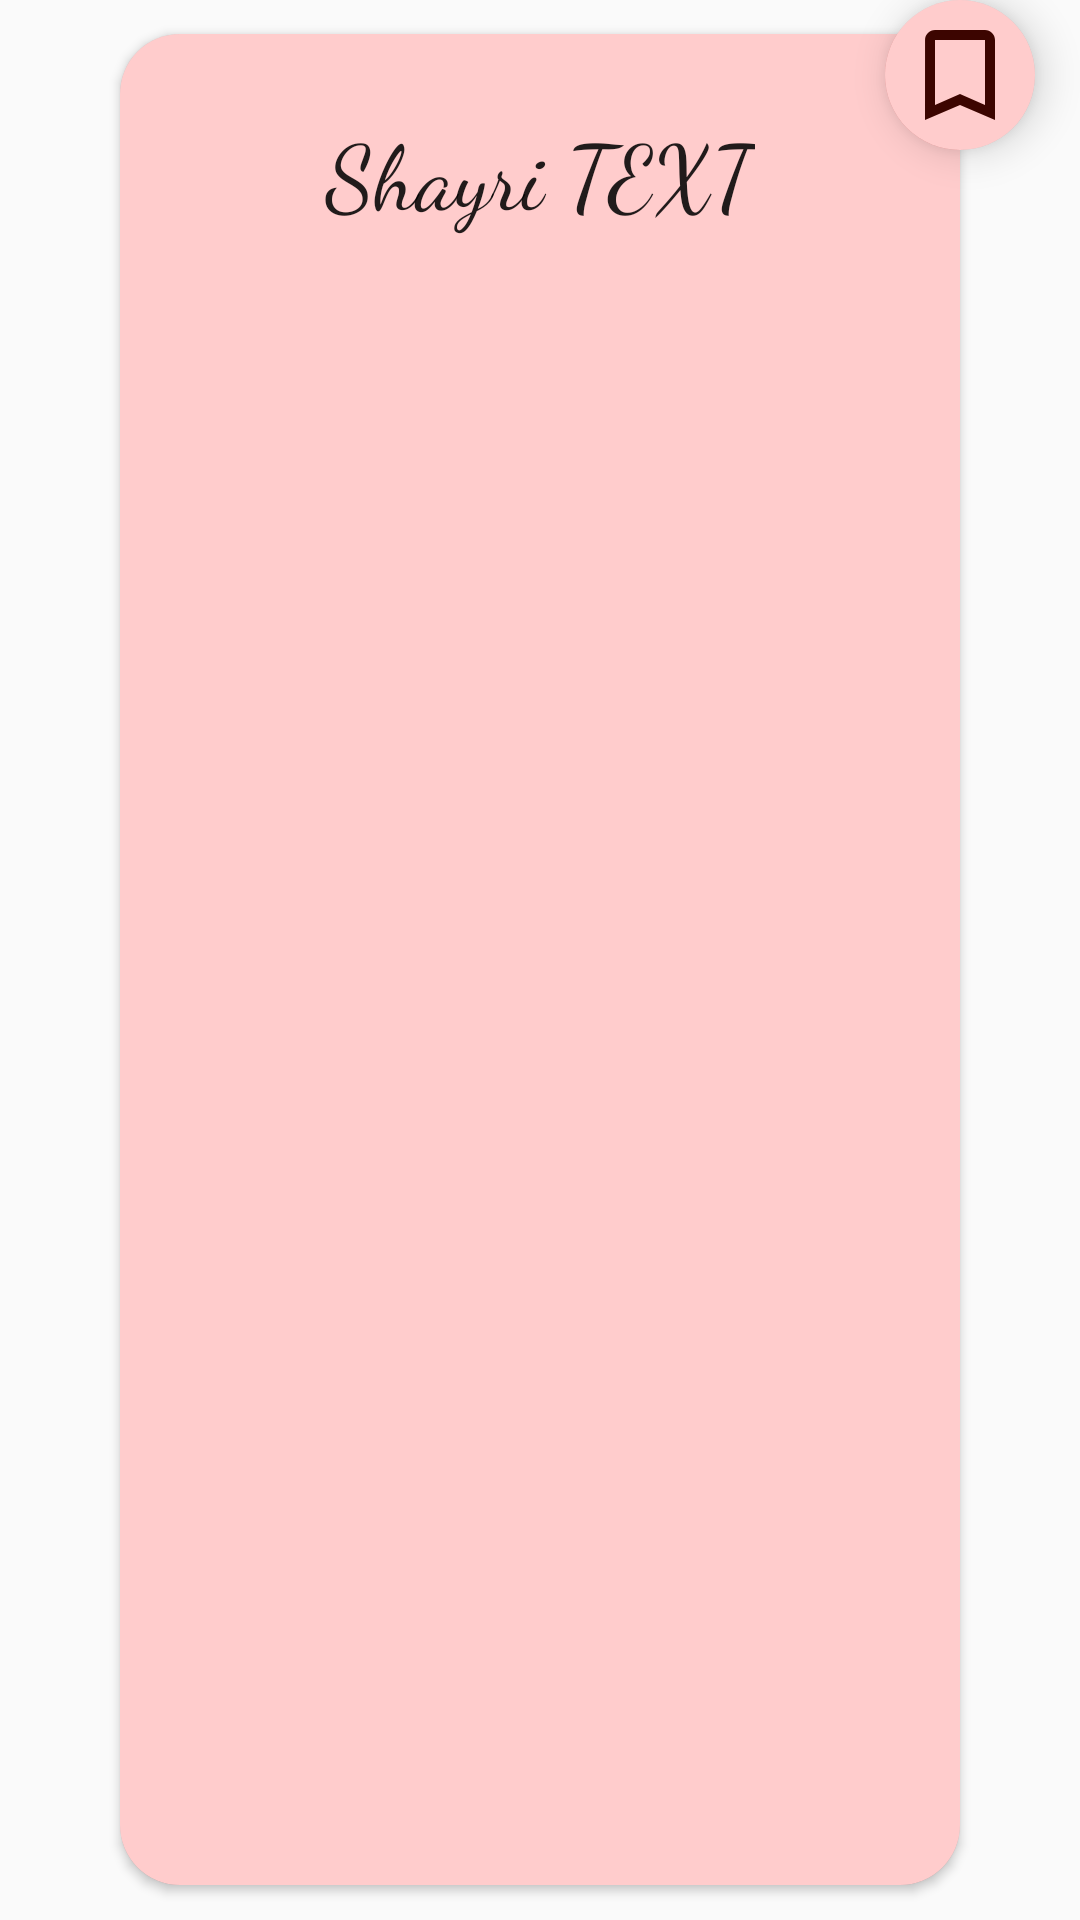

Screen size 1080x1920. Icon name, then its box in pixels as detection(x1, y1, x2, y2):
bookmark: detection(925, 30, 995, 120)
